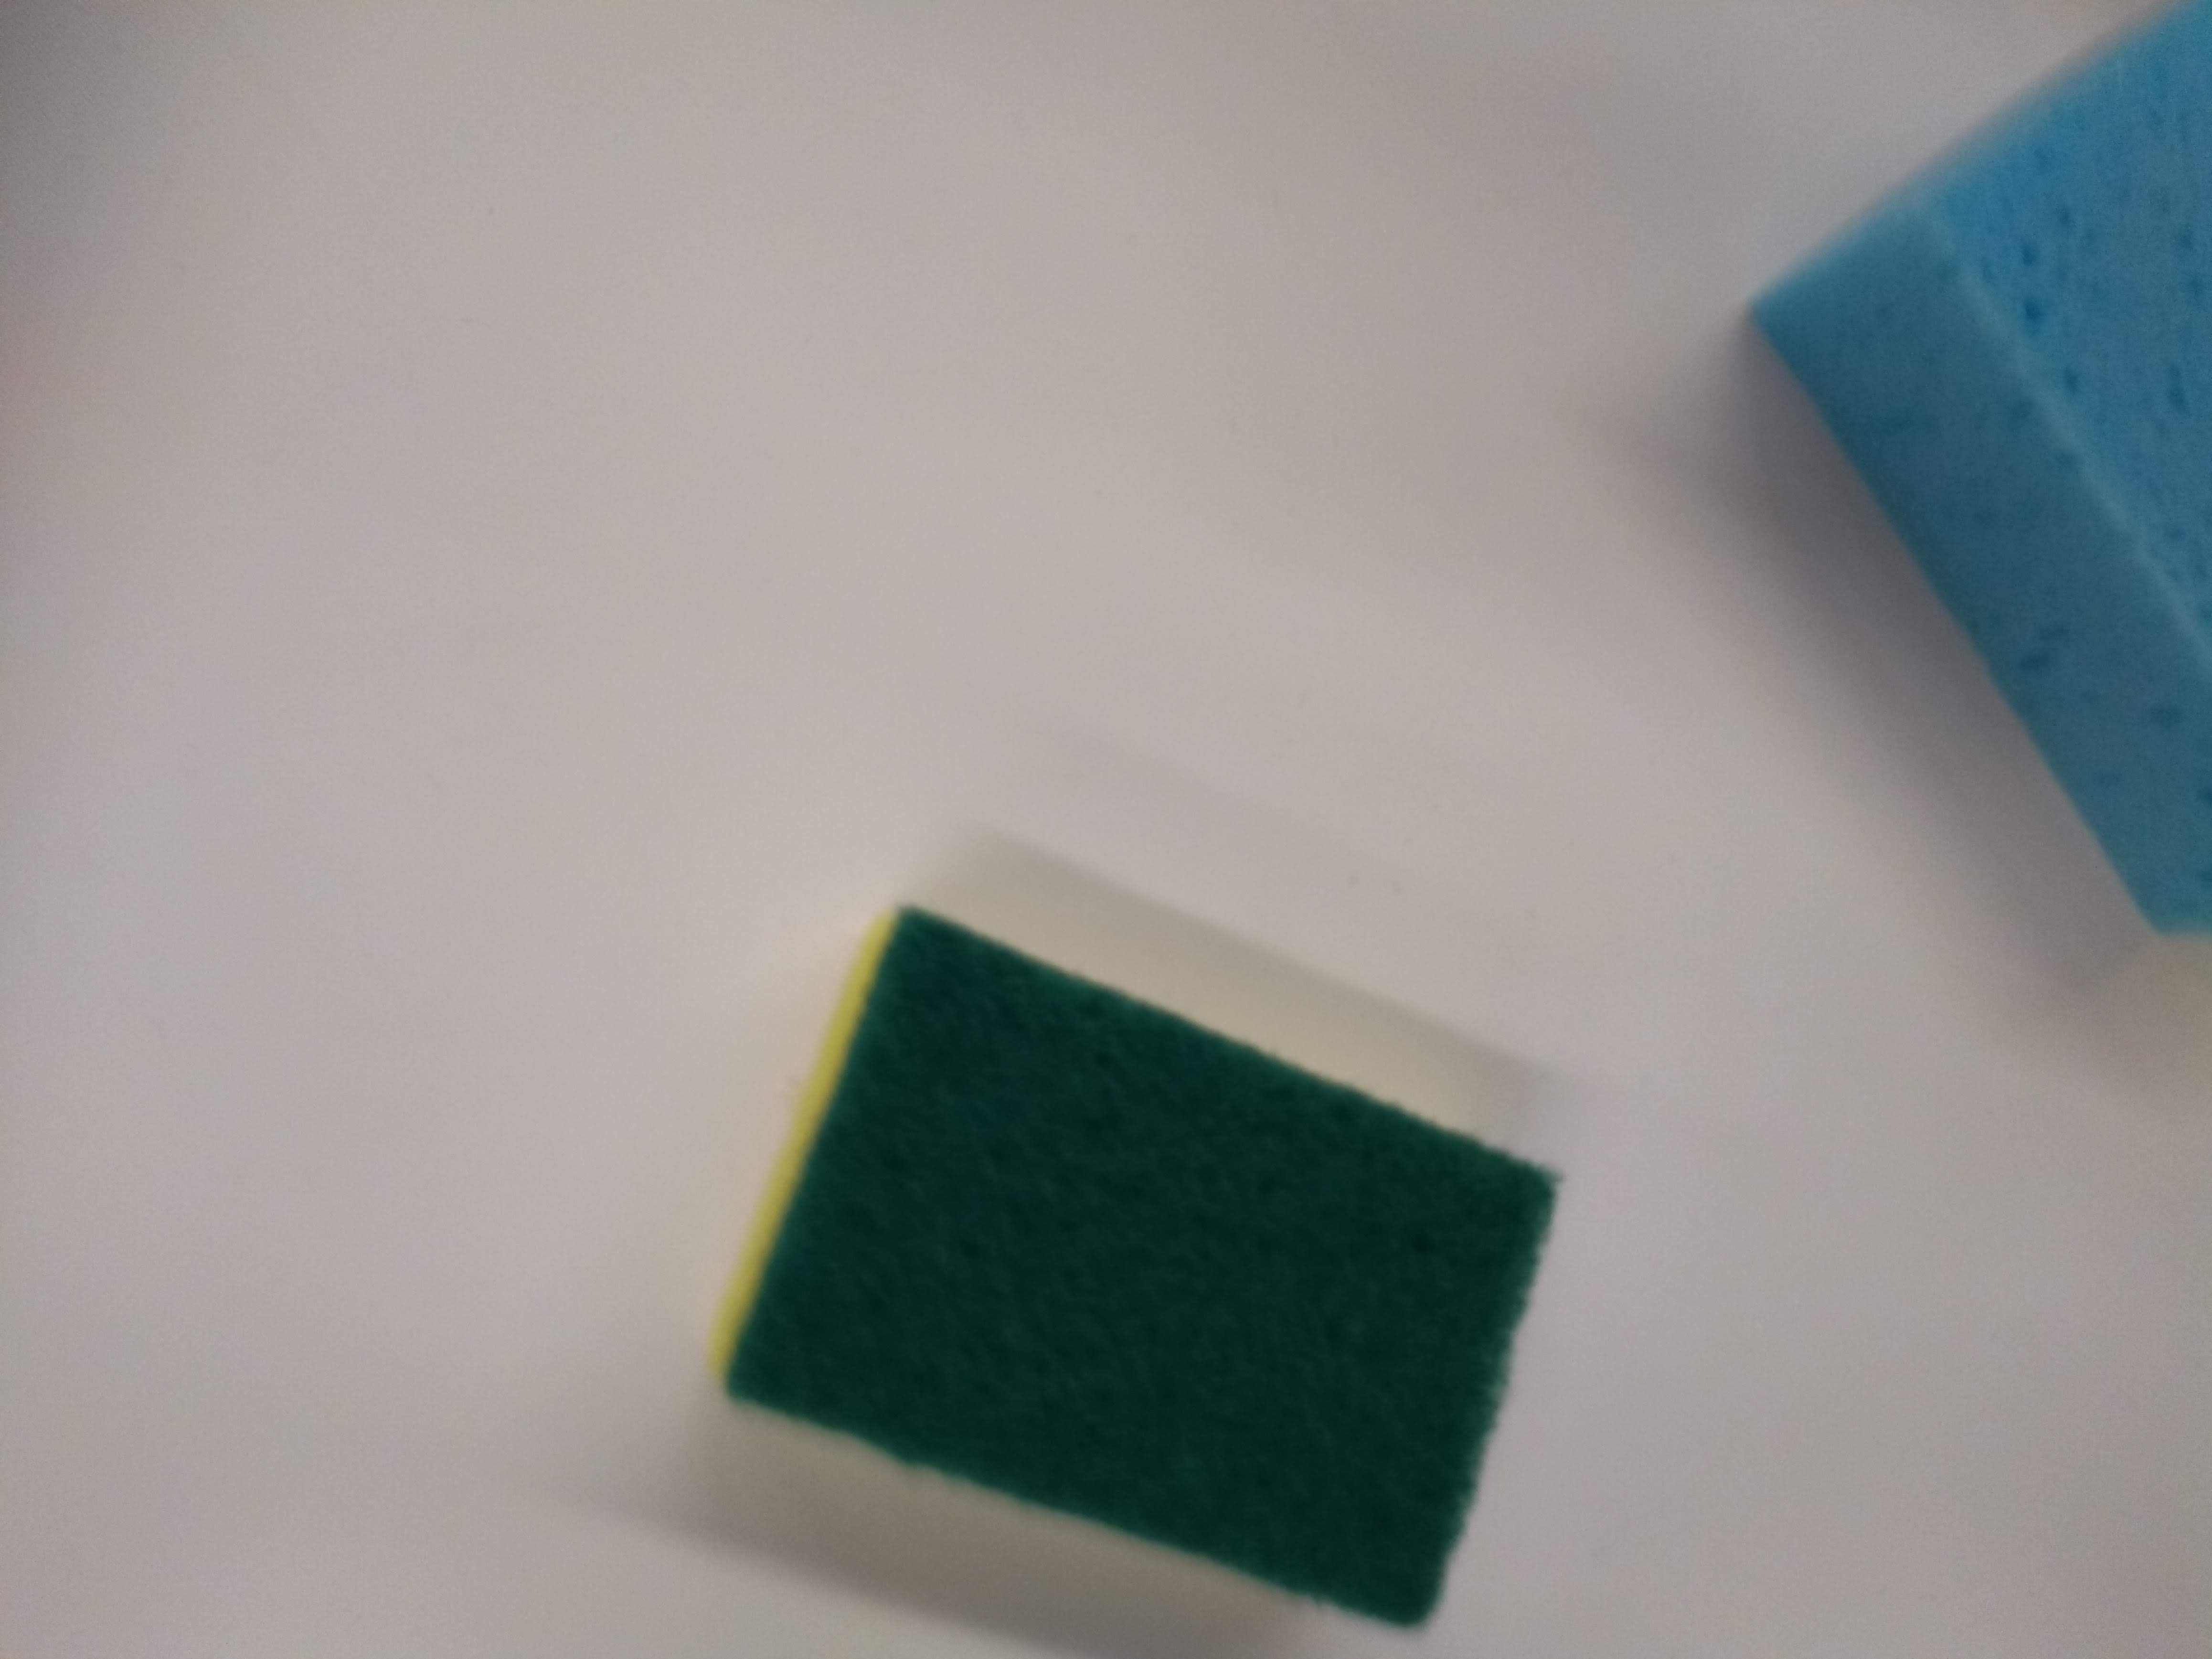scrubby: (690, 887, 1581, 1640)
